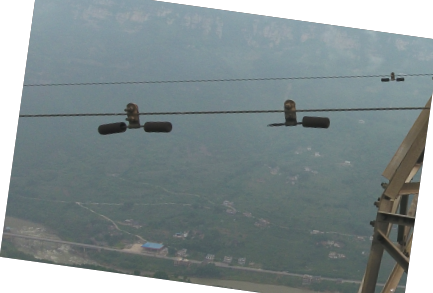damper: (94, 100, 176, 137), (379, 71, 406, 83)
damper_defect: (263, 98, 332, 131)
